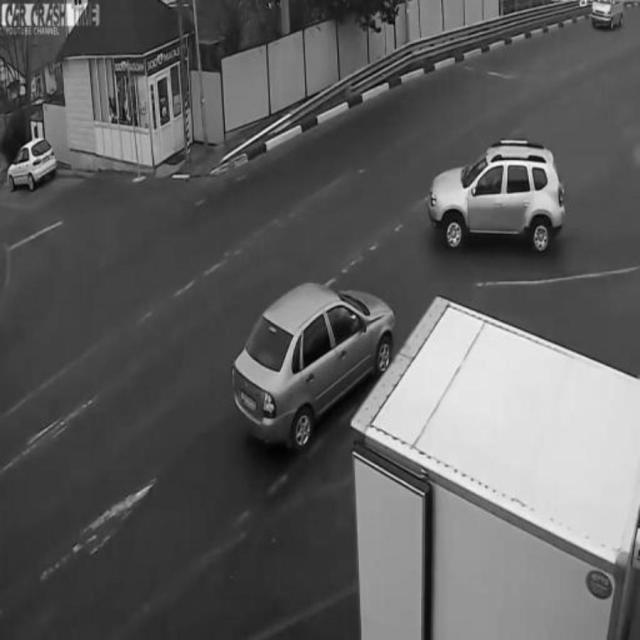vehicle: (230, 280, 395, 450), (431, 134, 567, 247), (7, 137, 57, 195), (587, 0, 633, 40)
